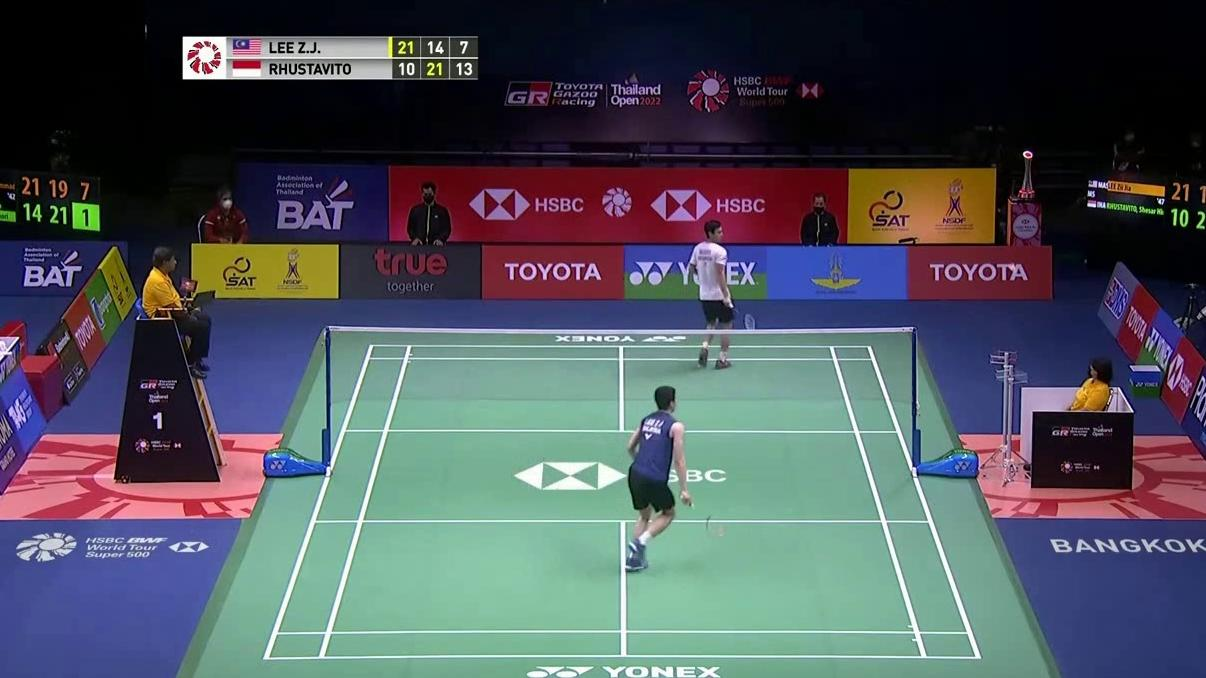racket: (681, 495, 727, 540), (727, 300, 757, 333)
shuttle: (1008, 263, 1017, 273)
